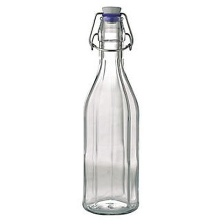bottle: (73, 0, 152, 216)
